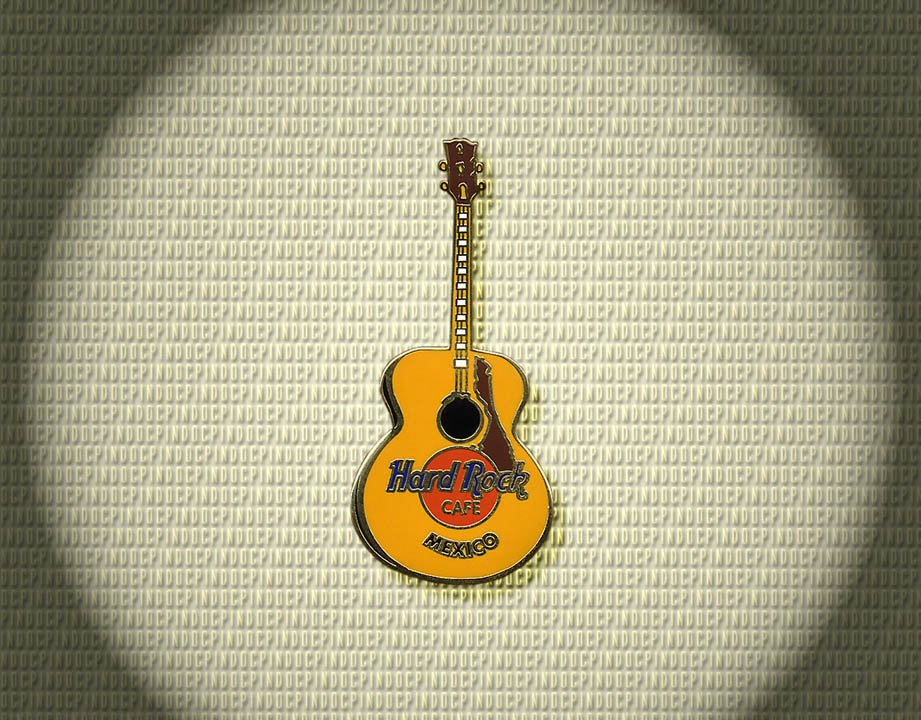guitar: (349, 141, 553, 584)
